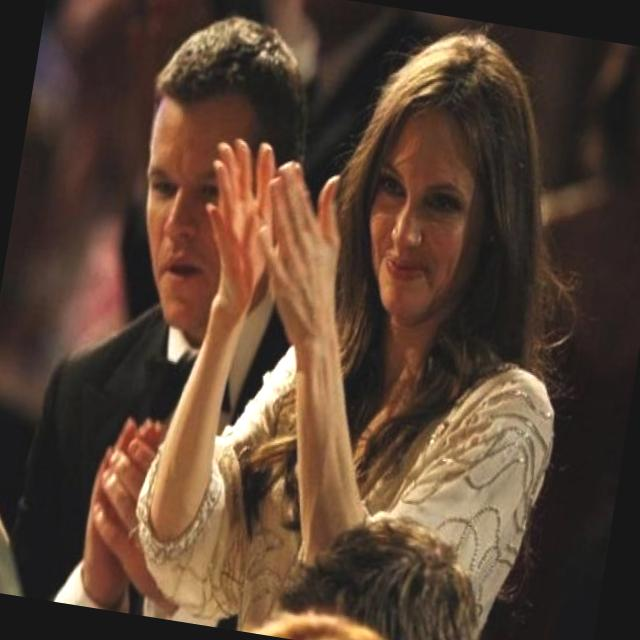no_vest: (180, 283, 560, 640)
